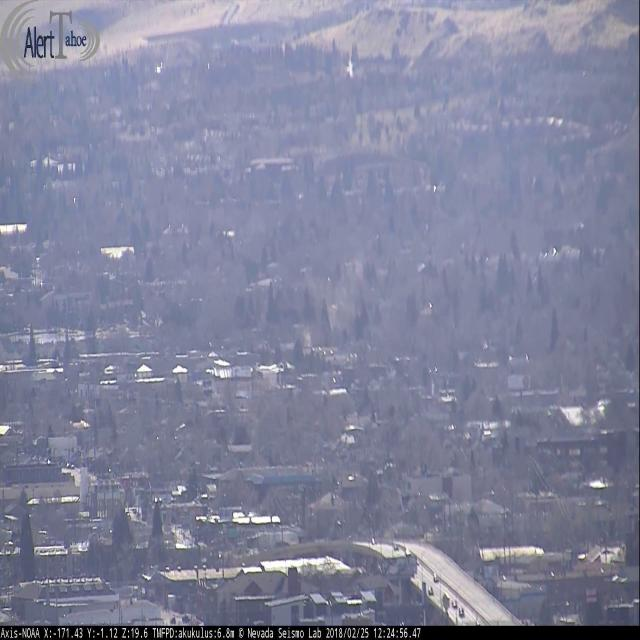smoke: (292, 245, 388, 369)
